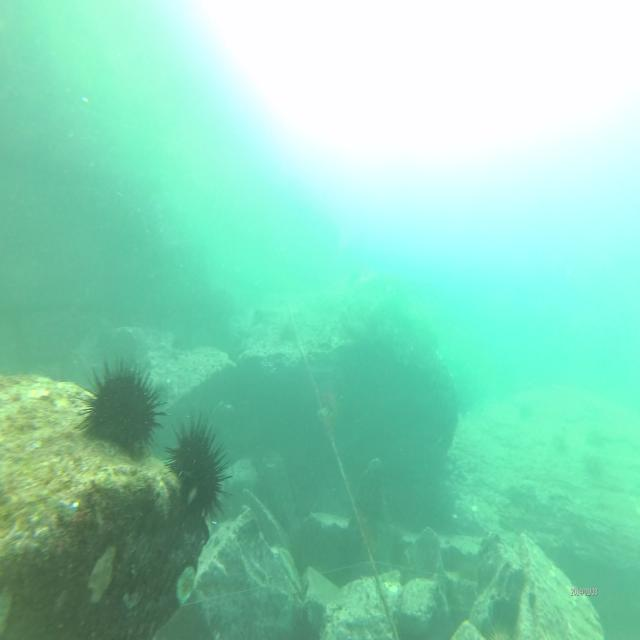echinus: (73, 356, 166, 464), (165, 419, 233, 516)
